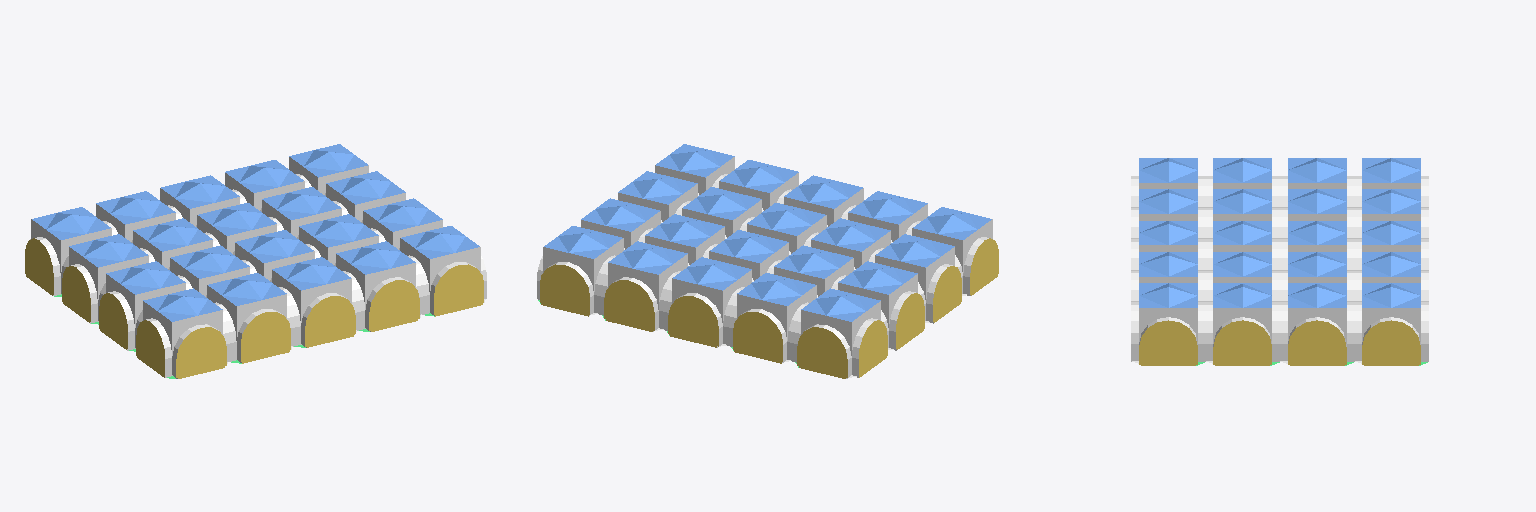
Rendered from vault.obj.
3 views of the same model, side by side, from view 1: azimuth 30°, elevation 25°; view 2: azimuth 150°, elevation 25°; view 3: azimuth 270°, elevation 25° (orthographic).
Visible parts, largest first — view 1: Mesh62 wall14 Model, Mesh57 wall9 Model, Mesh56 wall8 Model, Mesh58 wall10 Model, Mesh80 wall16 Model, Mesh47 pillar47 valut12 Model, Mesh43 pillar43 valut11 Model, Mesh39 pillar39 valut10 Model, Mesh83 pillar67 valut17 Model, Mesh65 pillar51 valut13 Model, Mesh35 pillar35 valut9 Model, Mesh3 pillar3 valut1 Model (+28 smaller); view 2: Mesh71 wall15 Model, Mesh59 wall11 Model, Mesh61 wall13 Model, Mesh60 wall12 Model, Mesh89 wall17 Model, Mesh2 pillar2 valut1 Model, Mesh10 pillar10 valut3 Model, Mesh6 pillar6 valut2 Model, Mesh86 pillar70 valut18 Model, Mesh68 pillar54 valut14 Model, Mesh18 pillar18 valut5 Model, Mesh46 pillar46 valut12 Model (+28 smaller); view 3: Mesh53 wall5 Model, Mesh55 wall7 Model, Mesh52 wall4 Model, Mesh54 wall6 Model, Mesh85 pillar69 valut18 Model, Mesh84 pillar68 valut17 Model, Mesh81 pillar65 valut17 Model, Mesh94 pillar77 valut20 Model, Mesh88 pillar72 valut18 Model, Mesh93 pillar76 valut19 Model, Mesh90 pillar73 valut19 Model, Mesh97 pillar80 valut20 Model (+28 smaller).
Part boxes in pixels (x1,y1,x2,y2): Mesh62 wall14 Model: (369, 280, 419, 331); Mesh57 wall9 Model: (305, 296, 355, 347); Mesh56 wall8 Model: (176, 327, 226, 378); Mesh58 wall10 Model: (241, 312, 290, 363); Mesh80 wall16 Model: (434, 264, 483, 316); Mesh47 pillar47 valut12 Model: (151, 297, 200, 378); Mesh43 pillar43 valut11 Model: (218, 281, 264, 363); Mesh39 pillar39 valut10 Model: (283, 265, 329, 347); Mesh83 pillar67 valut17 Model: (411, 234, 458, 316); Mesh65 pillar51 valut13 Model: (347, 250, 394, 331); Mesh35 pillar35 valut9 Model: (114, 269, 160, 351); Mesh3 pillar3 valut1 Model: (40, 215, 85, 296); Mesh71 wall15 Model: (604, 280, 654, 331); Mesh59 wall11 Model: (668, 296, 718, 347); Mesh61 wall13 Model: (797, 327, 847, 378); Mesh60 wall12 Model: (733, 312, 782, 363); Mesh89 wall17 Model: (540, 264, 589, 316); Mesh2 pillar2 valut1 Model: (823, 297, 872, 378); Mesh10 pillar10 valut3 Model: (694, 265, 740, 347); Mesh6 pillar6 valut2 Model: (759, 281, 805, 362); Mesh86 pillar70 valut18 Model: (565, 234, 612, 315); Mesh68 pillar54 valut14 Model: (629, 250, 676, 331); Mesh18 pillar18 valut5 Model: (863, 269, 909, 350); Mesh46 pillar46 valut12 Model: (938, 215, 983, 295); Mesh53 wall5 Model: (1288, 320, 1346, 365); Mesh55 wall7 Model: (1213, 320, 1271, 365); Mesh52 wall4 Model: (1362, 320, 1420, 365); Mesh54 wall6 Model: (1139, 320, 1197, 365); Mesh85 pillar69 valut18 Model: (1391, 287, 1428, 365); Mesh84 pillar68 valut17 Model: (1131, 287, 1168, 363); Mesh81 pillar65 valut17 Model: (1169, 287, 1205, 365); Mesh94 pillar77 valut20 Model: (1243, 287, 1279, 365); Mesh88 pillar72 valut18 Model: (1354, 287, 1390, 363); Mesh93 pillar76 valut19 Model: (1280, 287, 1316, 363); Mesh90 pillar73 valut19 Model: (1317, 287, 1353, 365); Mesh97 pillar80 valut20 Model: (1206, 287, 1242, 363).
Size of the model in its own units: 19 by 3.6 by 15.2.